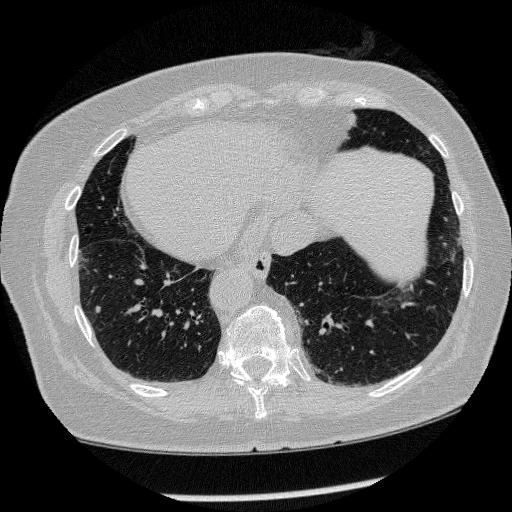nodule: (94, 303, 107, 316)
